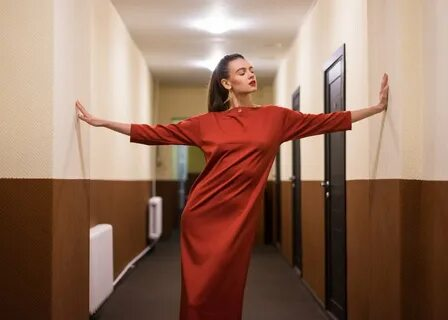awake: (74, 53, 390, 320)
